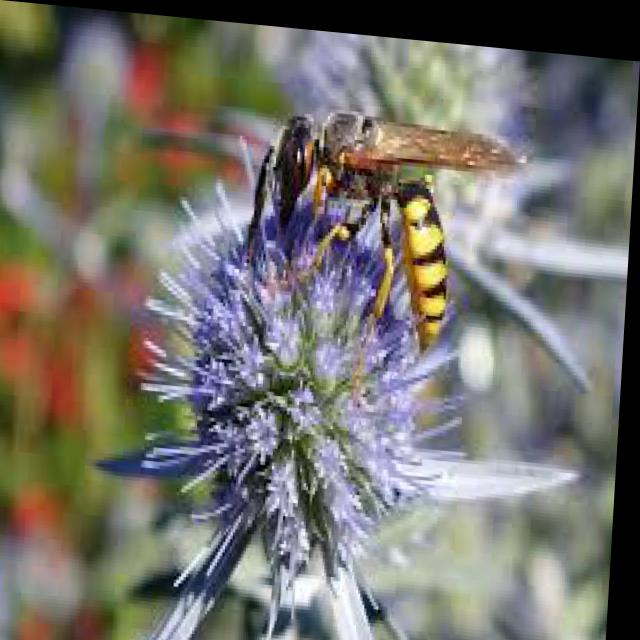Vespa Velutina: (232, 85, 540, 368)
